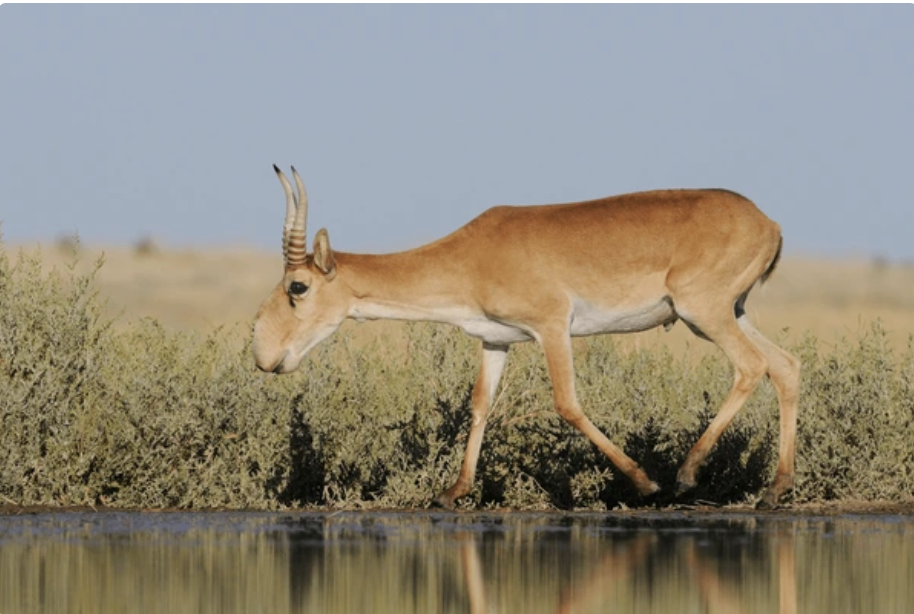saiga: (229, 153, 811, 499)
